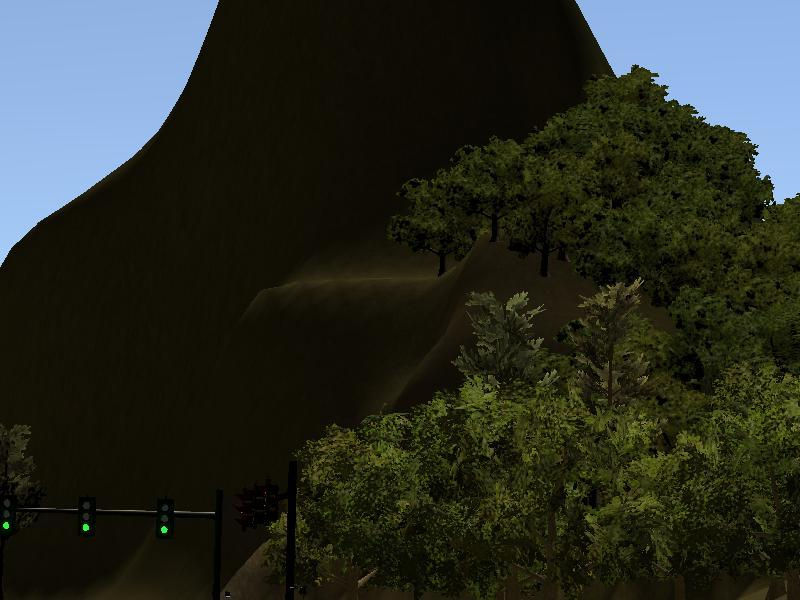Green: (158, 496, 174, 541), (78, 494, 95, 535), (1, 499, 16, 535)
